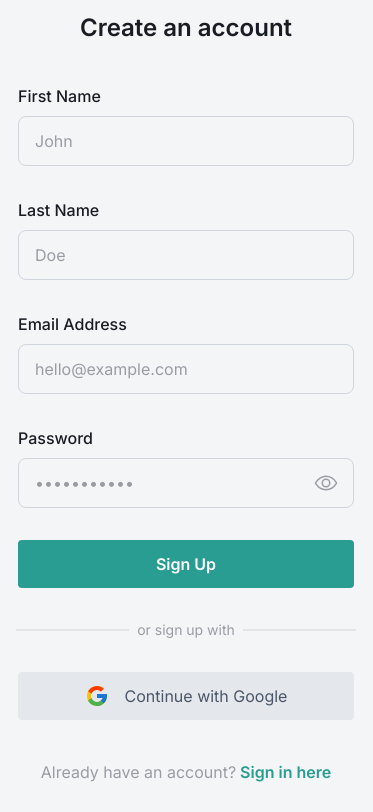
Test: Signup › shows a password error when signup error includes password
The image size is (373, 812).
Type "Test" into the field labelled "First Name".
click(186, 141); type("Test")  # box [18,116,354,166]
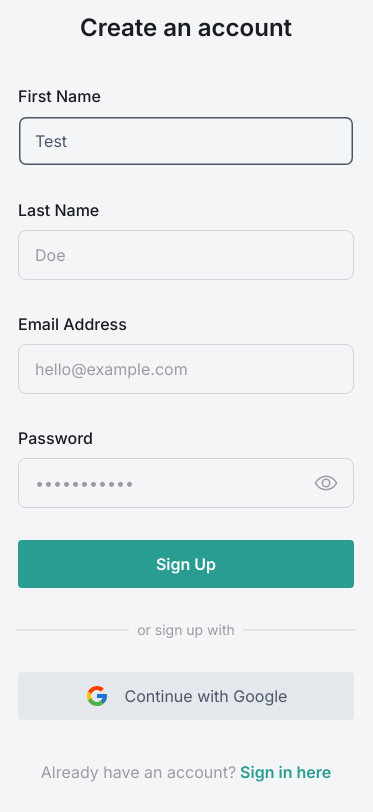
Type "User" into the field labelled "Last Name".
click(186, 255); type("User")  # box [18,230,354,280]
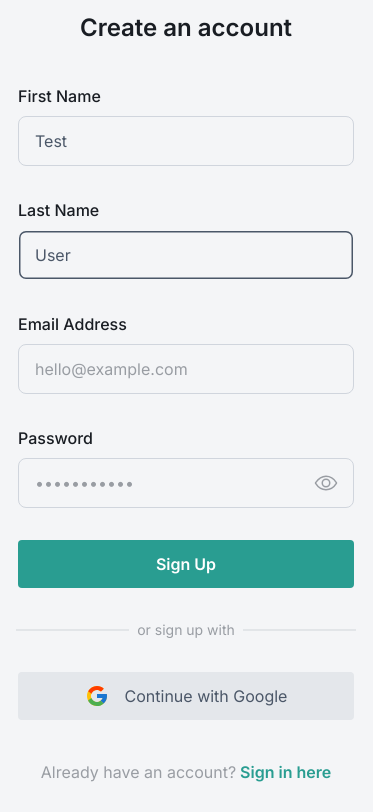
Type "user@test.com" into the field labelled "Email Address".
click(186, 369); type("user@test.com")  # box [18,344,354,394]
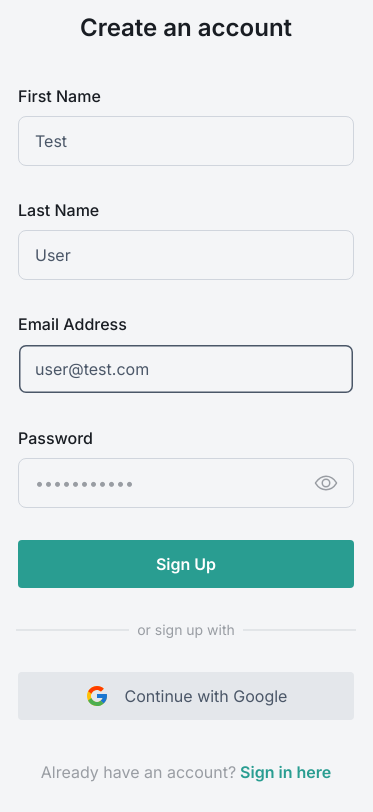
Type "1234" into the password field labelled "Password".
click(186, 483); type("1234")  # box [18,458,354,508]
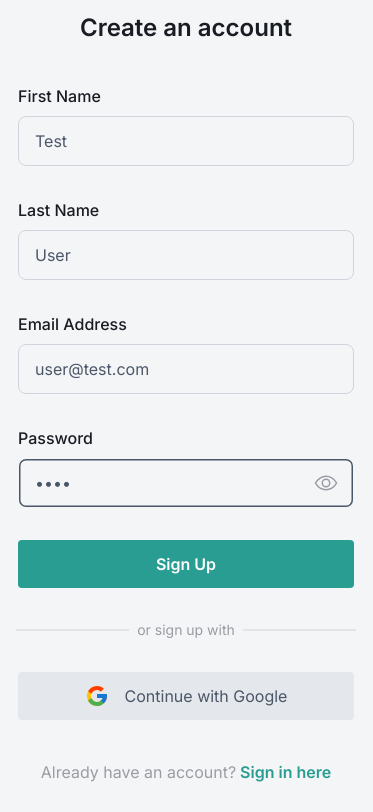
Click the button "Sign Up".
click(186, 564)  # box [18,540,354,588]
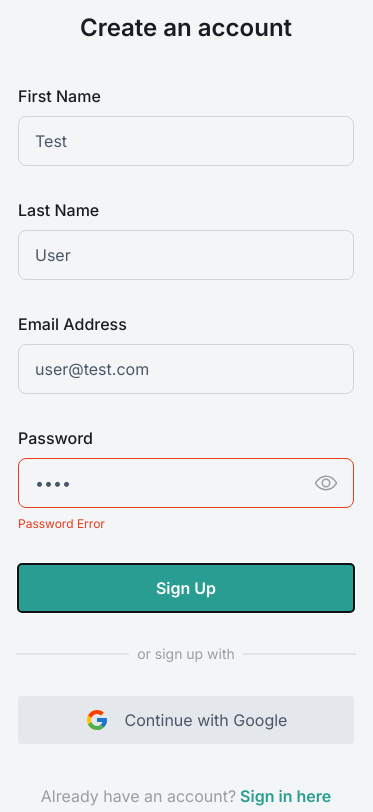
Result: the text "Password Error" is shown at [18,516,105,531]
